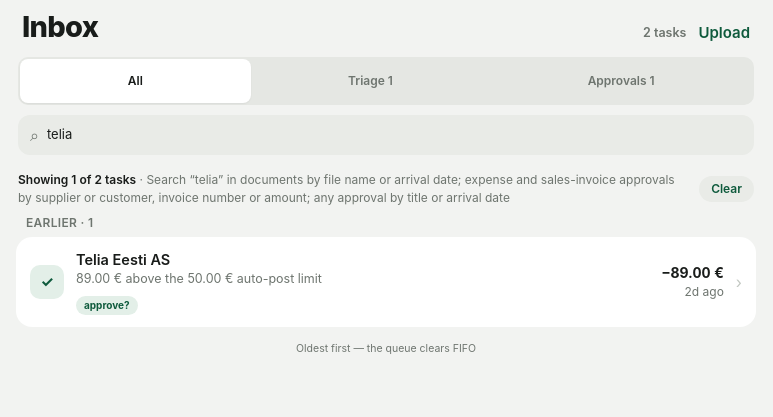
Test: InboxScreen search (issue #278) › the search survives a segment switch
Expected: the text "Telia Eesti AS" is shown, [76,250,170,268]
Step 1. Click the radio button labelled "Triage 1" → (370, 80), box [348,73,393,88]
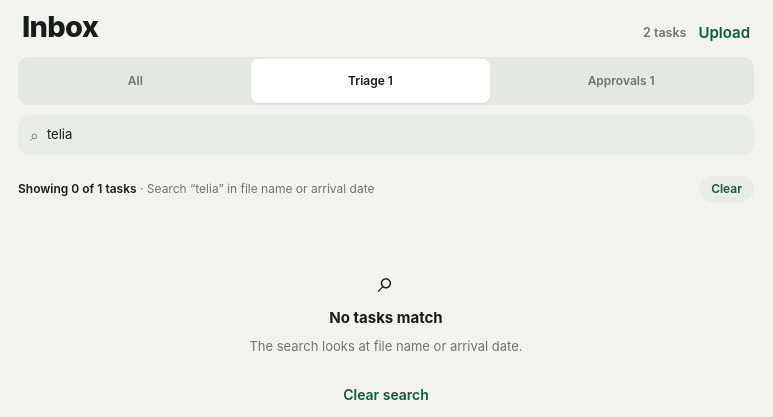
Expected: the search field named "Search the Inbox" holds "telia", [47,125,742,144]
Expected: the text "No tasks match" is shown, [329,306,443,329]
